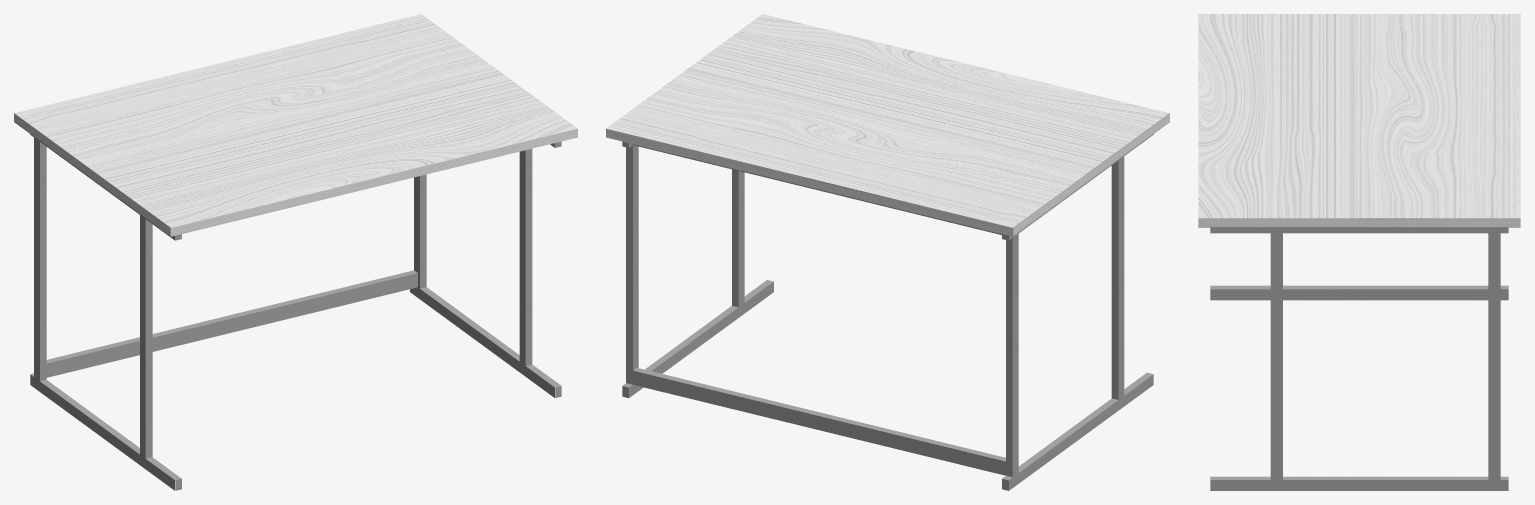
3 views of the same model, side by side, from view 1: azimuth 30°, elevation 25°; view 2: azimuth 150°, elevation 25°; view 3: azimuth 270°, elevation 25° (orthographic). The views are drawn at different scales.
Parts seen in each view (by area): view 1: Stul_120 v2; view 2: Stul_120 v2; view 3: Stul_120 v2.
Boxes of the visible parts, x1=… form: Stul_120 v2: x1=14, y1=14, x2=577, y2=490; Stul_120 v2: x1=606, y1=14, x2=1169, y2=490; Stul_120 v2: x1=1198, y1=14, x2=1520, y2=490.
Size of the model in its own units: 1.2 by 0.8 by 0.76.
